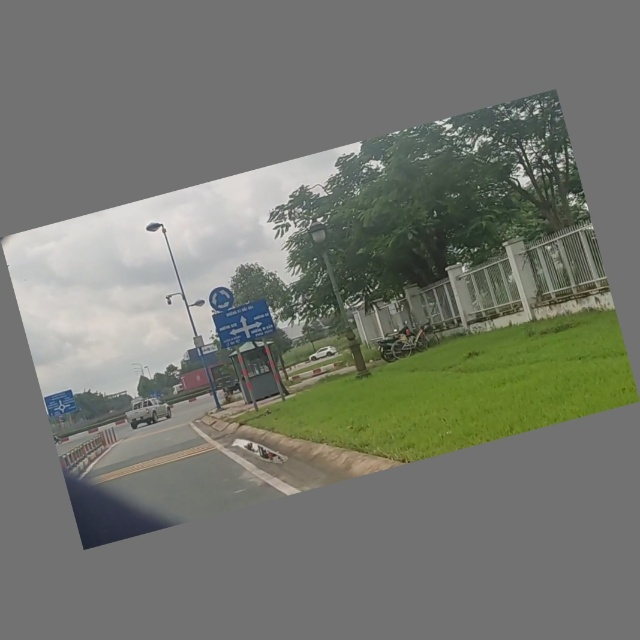R.303: (205, 284, 237, 316)
